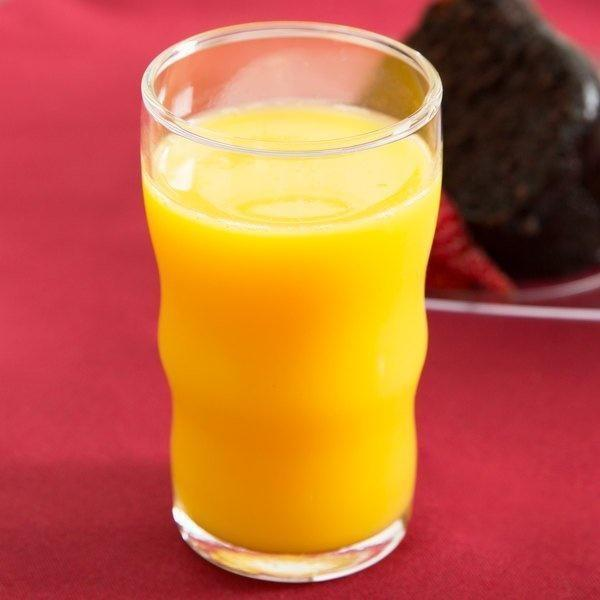glass-normal: (135, 24, 450, 590)
